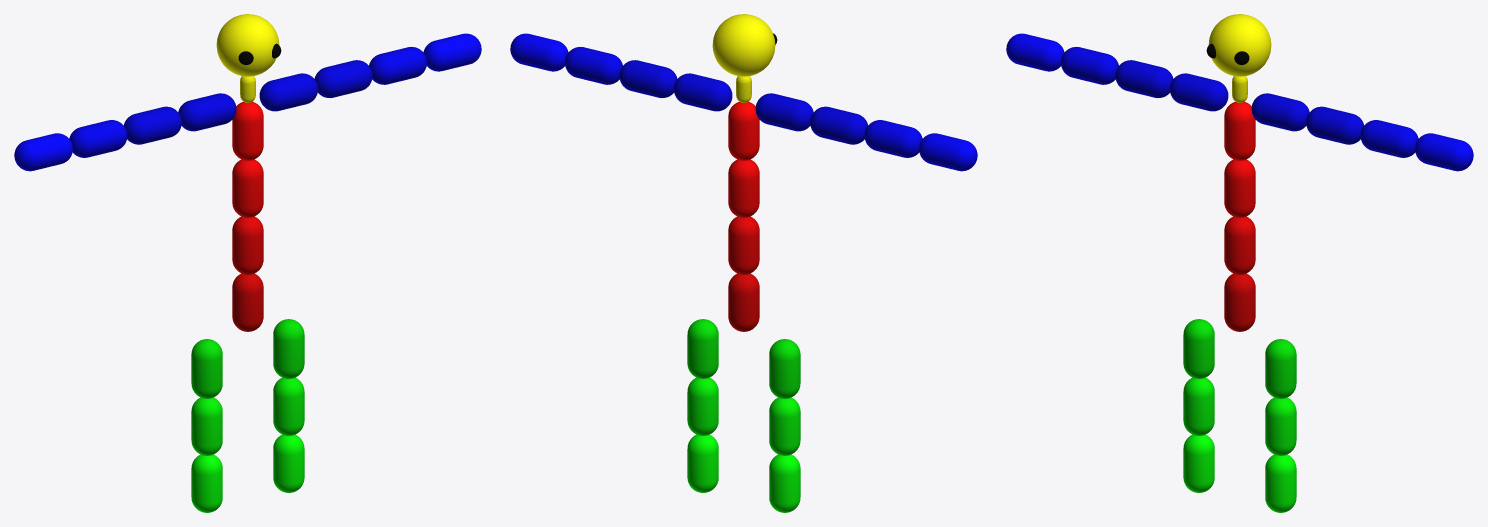
Rendered from SampleCharacter.fbx.
3 renders of one model, left to right at view 1: azimuth 30°, elevation 25°; view 2: azimuth 150°, elevation 25°; view 3: azimuth 330°, elevation 25°, orthographic.
Parts seen in each view (by area): view 1: Head, Thigh_L, Thigh_R, Shoulder_L, Hand_R, Chest, Hips, Spine, Calf_R, Foot_R, Calf_L, Foot_L (+7 smaller); view 2: Head, Thigh_L, Thigh_R, Shoulder_L, Hand_R, Chest, Hips, Spine, Calf_R, Foot_R, Calf_L, Foot_L (+7 smaller); view 3: Head, Thigh_L, Thigh_R, Shoulder_R, Hand_L, Chest, Hips, Spine, Calf_L, Foot_L, Calf_R, Foot_R (+7 smaller).
Boxes of the visible parts, x1,y1,x2,y2 form: Head: [216, 14, 279, 76]; Thigh_L: [273, 319, 304, 378]; Thigh_R: [191, 339, 222, 398]; Shoulder_L: [259, 73, 317, 111]; Hand_R: [14, 133, 72, 171]; Chest: [232, 159, 263, 217]; Hips: [232, 273, 263, 331]; Spine: [232, 216, 263, 274]; Calf_R: [191, 397, 222, 455]; Foot_R: [191, 454, 222, 512]; Calf_L: [273, 377, 304, 435]; Foot_L: [273, 434, 304, 492]; Head: [712, 14, 775, 76]; Thigh_L: [687, 319, 718, 378]; Thigh_R: [769, 339, 800, 398]; Shoulder_L: [674, 73, 732, 111]; Hand_R: [919, 133, 977, 171]; Chest: [728, 159, 759, 217]; Hips: [728, 273, 759, 331]; Spine: [728, 216, 759, 274]; Calf_R: [769, 397, 800, 455]; Foot_R: [769, 454, 800, 512]; Calf_L: [687, 377, 718, 435]; Foot_L: [687, 434, 718, 492]; Head: [1208, 14, 1271, 76]; Thigh_L: [1265, 339, 1296, 398]; Thigh_R: [1183, 319, 1214, 378]; Shoulder_R: [1170, 73, 1228, 111]; Hand_L: [1415, 133, 1473, 171]; Chest: [1224, 159, 1255, 217]; Hips: [1224, 273, 1255, 331]; Spine: [1224, 216, 1255, 274]; Calf_L: [1265, 397, 1296, 455]; Foot_L: [1265, 454, 1296, 512]; Calf_R: [1183, 377, 1214, 435]; Foot_R: [1183, 434, 1214, 492].
Size of the model in its own units: 1700 by 1700 by 200.
